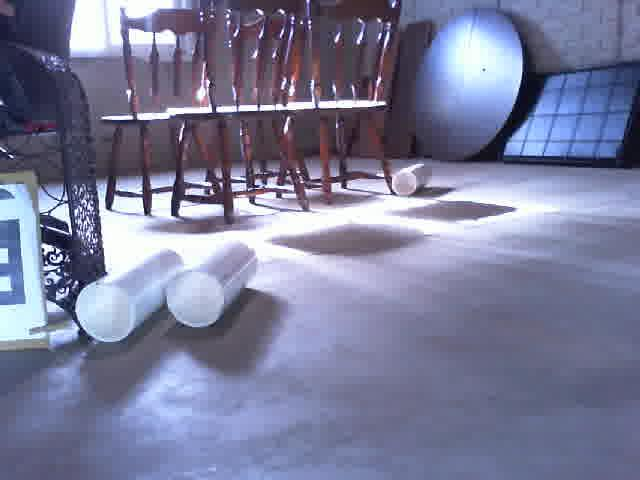coral: (75, 245, 184, 346), (165, 239, 259, 329), (390, 160, 432, 196)
